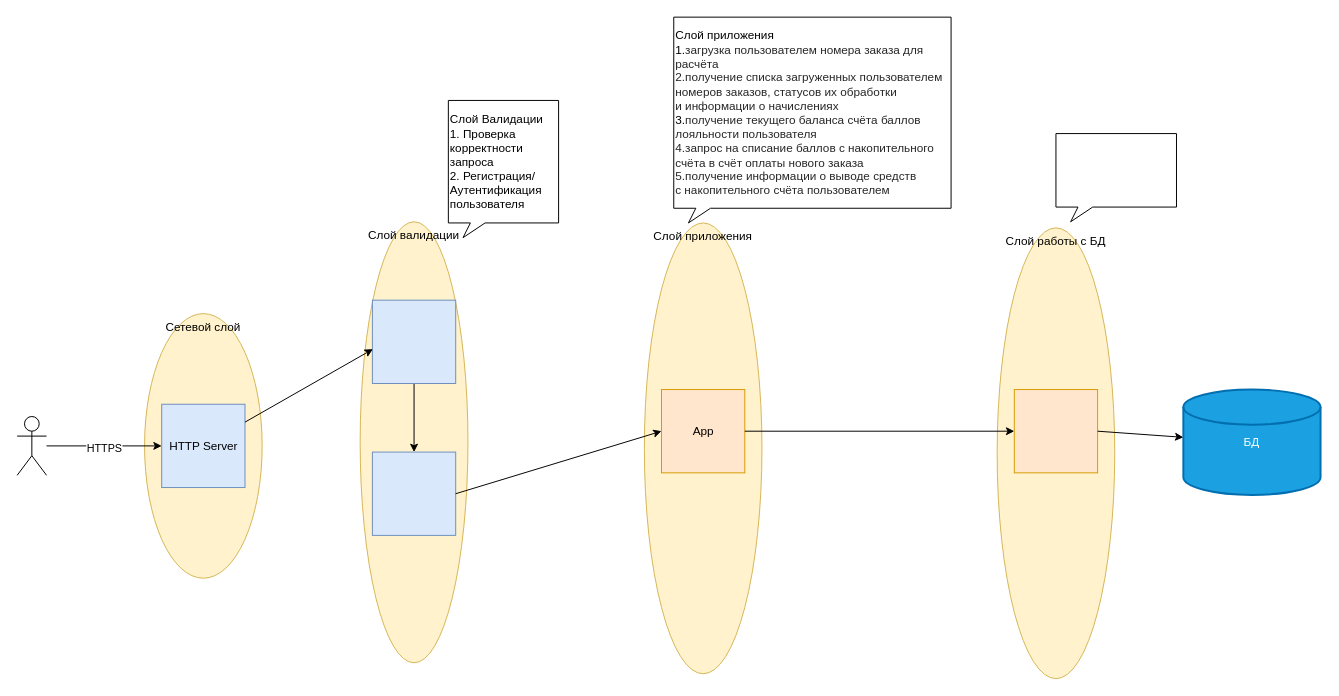
This 1339x696 diagram has some shape labels left out. The shapes that lost their labels are listed below. From the top down, each one's centre as x and y in pixels, then its label:
the point at 1115,177: Слой работы с БД 1. Создание 2. Обновленин
the point at 413,341: Valid Request
the point at 31,445: User
the point at 1055,431: Repository
the point at 413,493: Auth
